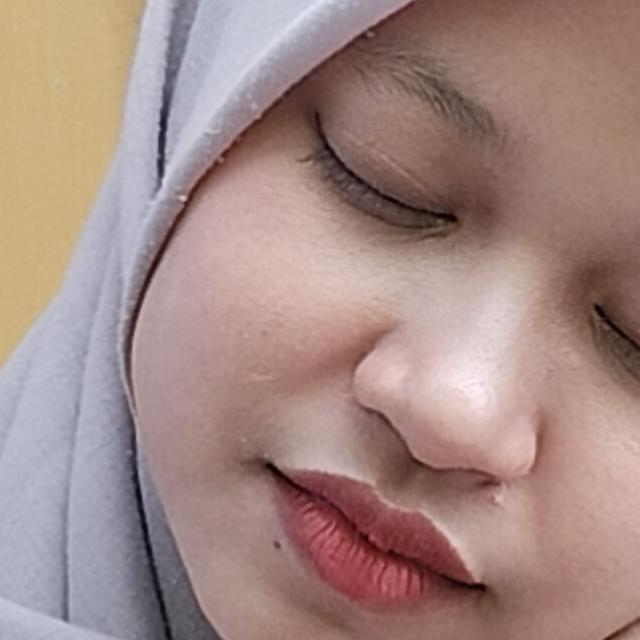tidur: (76, 218, 640, 640)
